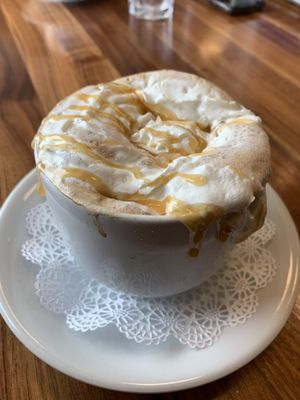sushi: (0, 140, 300, 392)
